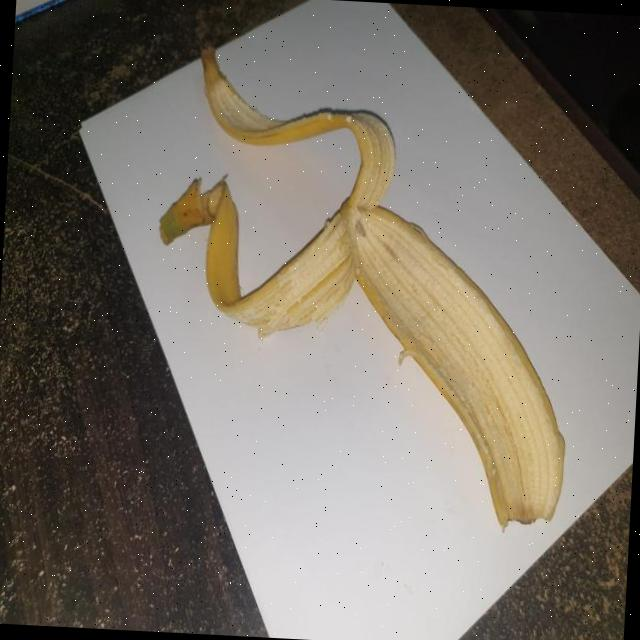banana-peel: (143, 42, 587, 533)
